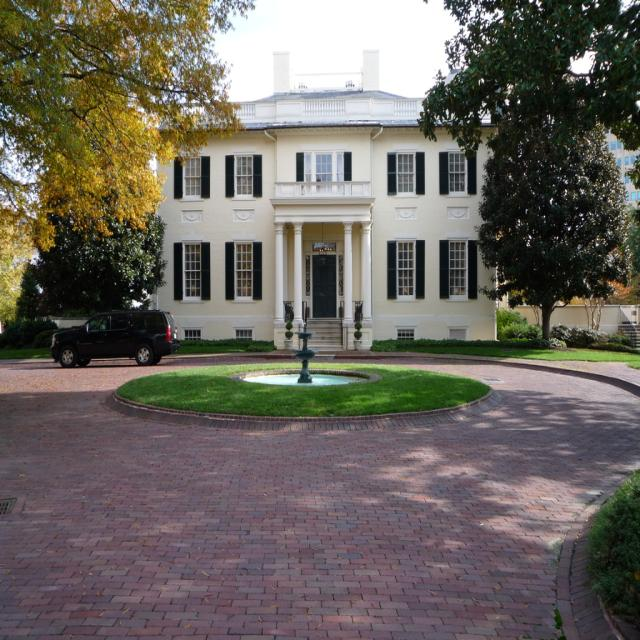car: (47, 301, 171, 368)
